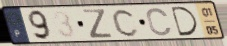3: (53, 10, 76, 40)
9: (26, 9, 53, 41)
C: (111, 8, 141, 39), (145, 6, 174, 37)
D: (169, 6, 200, 38)
Z: (82, 8, 115, 39)
